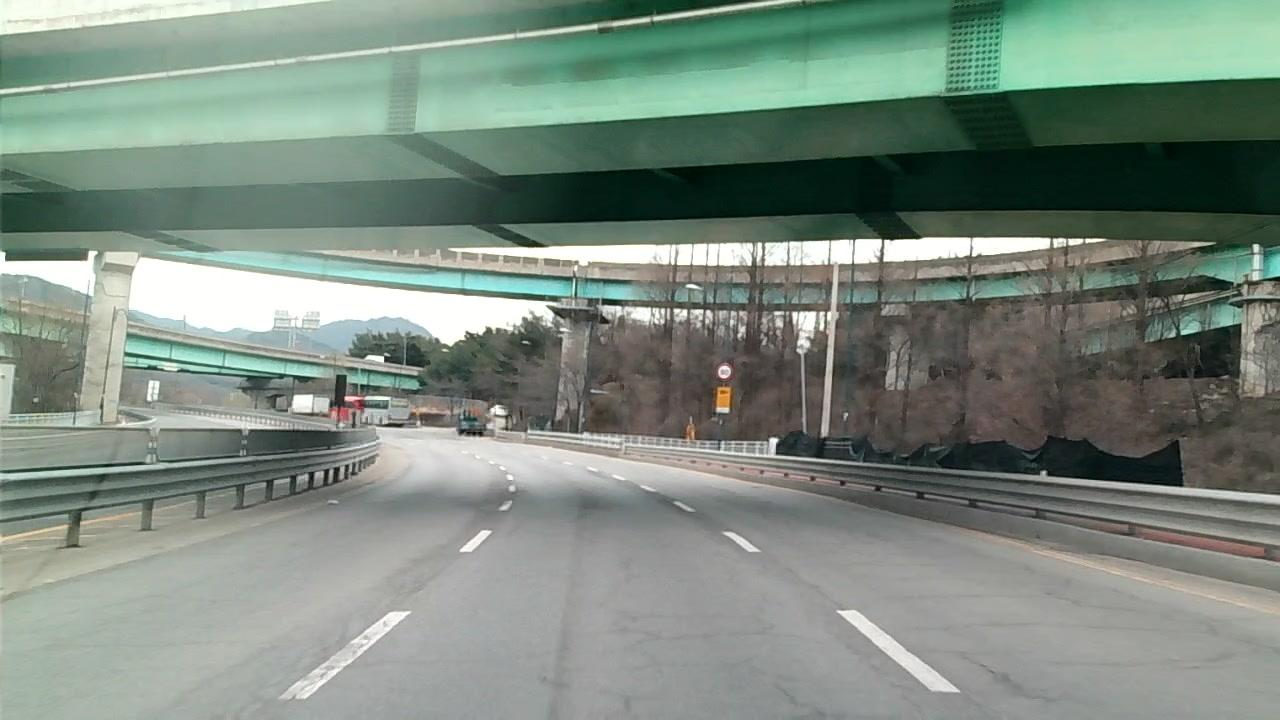hcrack: (59, 637, 207, 649), (645, 626, 768, 640), (1053, 658, 1151, 669)
vcrack: (945, 647, 1040, 705), (830, 631, 896, 687), (773, 556, 839, 606), (1041, 585, 1112, 614), (769, 678, 806, 706)
